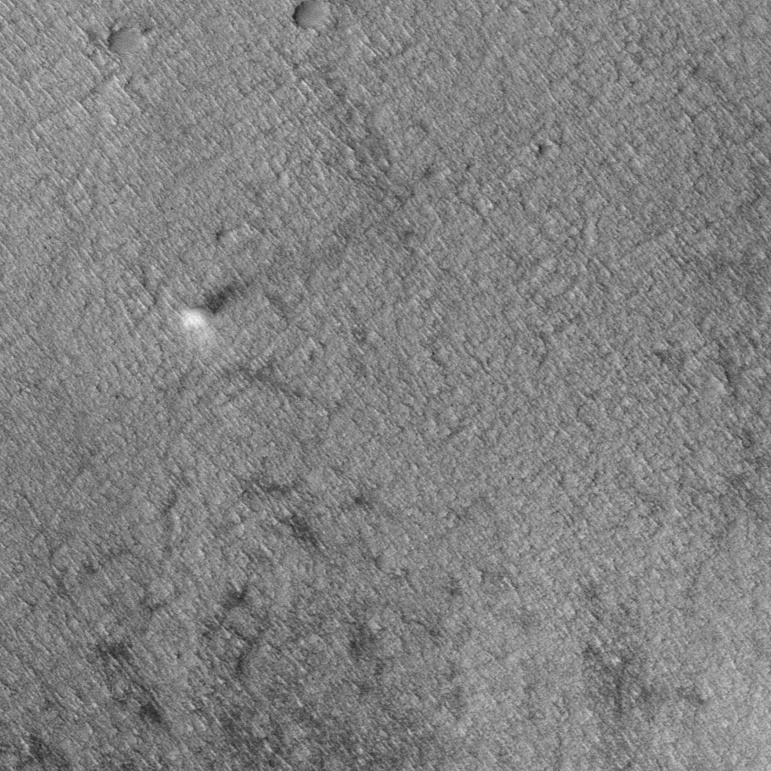dust_devil: (177, 277, 246, 338)
